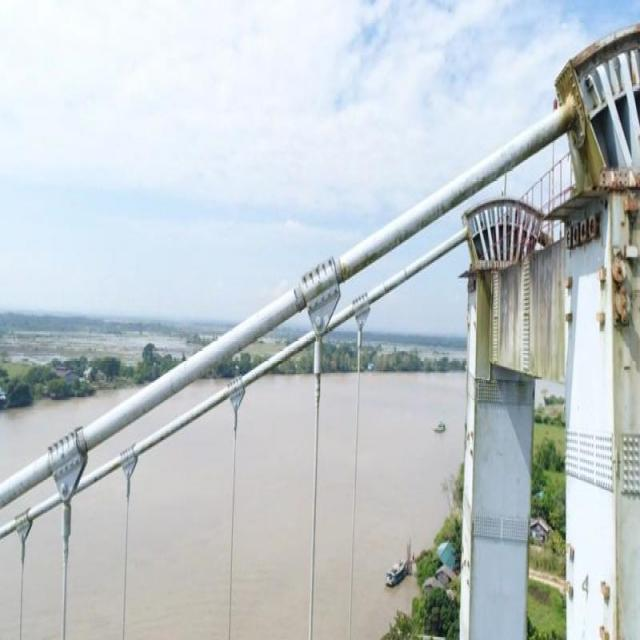Slippage: (294, 284, 306, 311), (334, 257, 344, 286), (77, 430, 87, 454)
